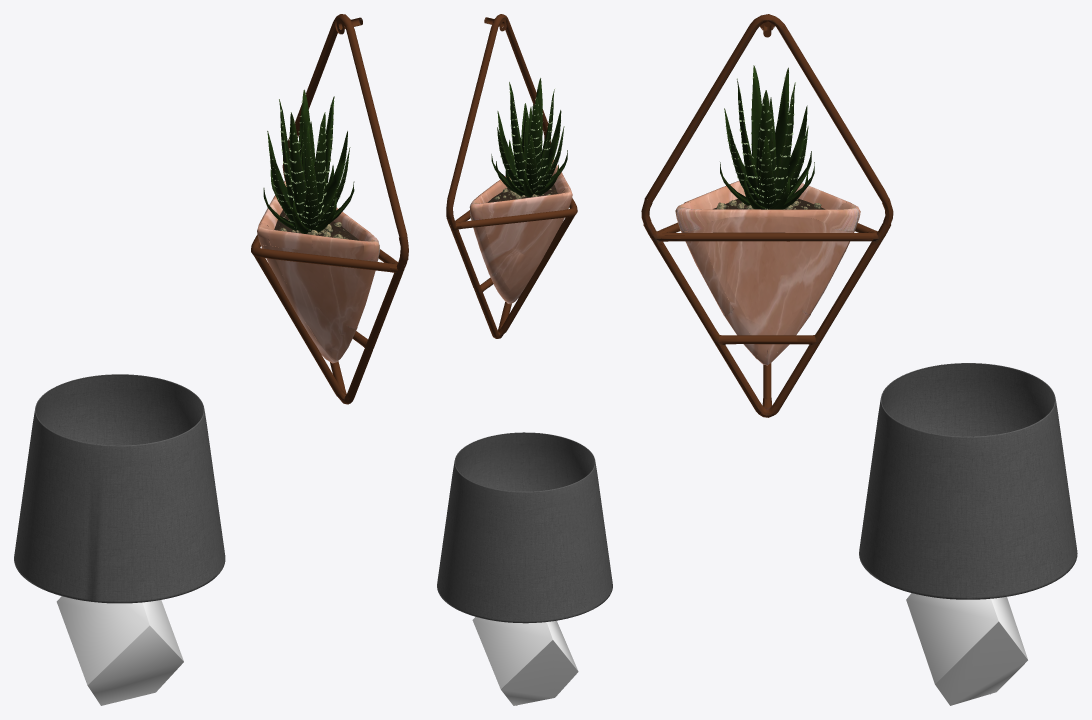
Rendered from deskDecoration-transformed.glb.
The picture shows the model from 3 angles, left to right: view 1: azimuth 30°, elevation 25°; view 2: azimuth 150°, elevation 25°; view 3: azimuth 270°, elevation 25°; orthographic projection. The views are drawn at different scales.
Visible parts, largest first — view 1: Nicolas_Aubagnac_Durer_S_mat(1), plant; view 2: Nicolas_Aubagnac_Durer_S_mat(1), plant; view 3: Nicolas_Aubagnac_Durer_S_mat(1), plant.
Part boxes in pixels (x1,y1,x2,y2): Nicolas_Aubagnac_Durer_S_mat(1): (14, 374, 225, 705); plant: (251, 14, 408, 404); Nicolas_Aubagnac_Durer_S_mat(1): (437, 432, 612, 705); plant: (446, 14, 577, 338); Nicolas_Aubagnac_Durer_S_mat(1): (859, 363, 1077, 705); plant: (641, 14, 893, 417).
Size of the model in its own units: 0.3329 by 0.9709 by 0.5159.
3 materials, 2 textured.
